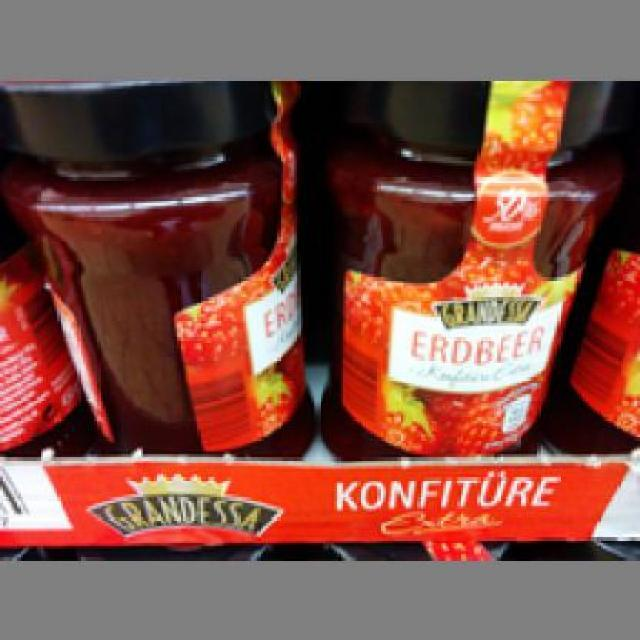Jam: (312, 77, 628, 457), (0, 80, 315, 461)
